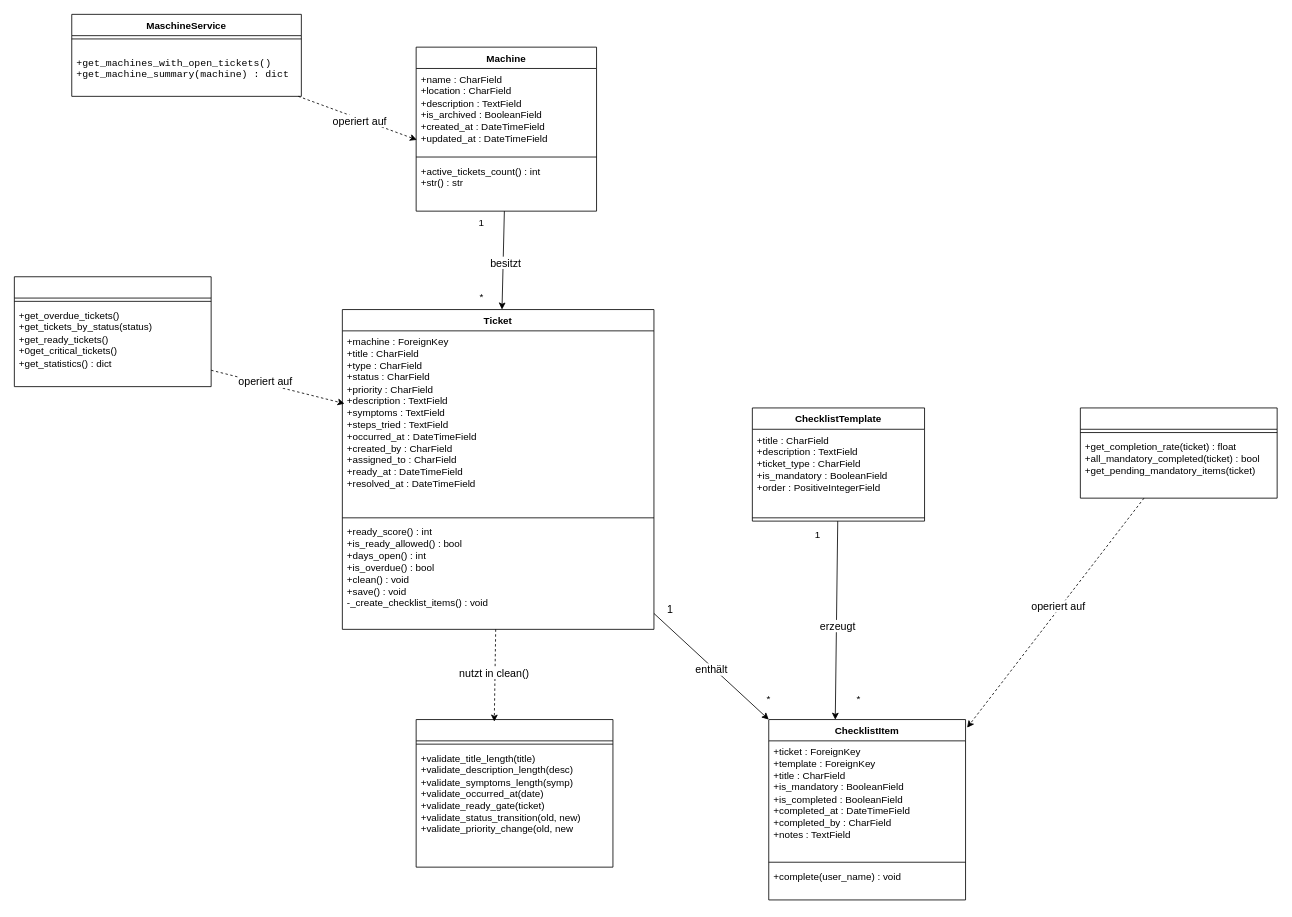
Image size: 1292x917. Some labels were removed from this diagram. The shapes that lost their labels are listed below. From the top down, each one's box as (x1, y1, x2, y2) in pixels, then its label:
(14, 276, 211, 387): TicketService
(1080, 407, 1277, 498): ChecklistService
(415, 719, 613, 867): Validators
